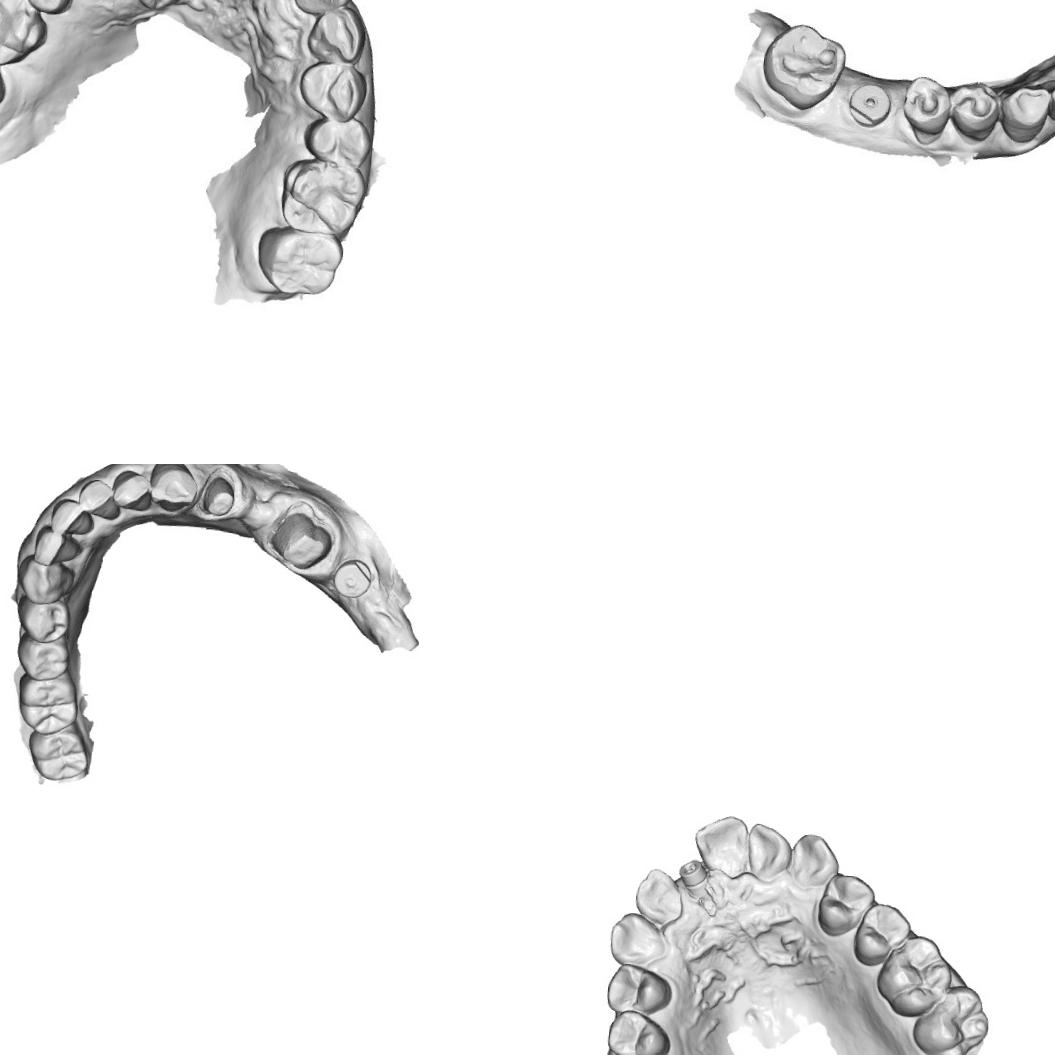canine: (304, 3, 366, 66), (605, 909, 669, 967), (13, 553, 80, 608), (785, 830, 843, 891), (999, 81, 1051, 146), (145, 464, 200, 515)
crown: (266, 506, 336, 574), (197, 472, 238, 519)
implant: (844, 80, 894, 130), (327, 554, 377, 602), (675, 856, 712, 900)
incisor: (690, 812, 752, 880), (631, 866, 686, 927), (744, 820, 794, 883), (28, 523, 84, 570), (74, 472, 124, 522), (44, 495, 96, 540), (109, 467, 155, 514), (297, 0, 354, 13), (1045, 69, 1055, 126)
molar: (758, 17, 849, 113), (275, 153, 371, 239), (872, 930, 954, 1021), (253, 220, 343, 298), (909, 980, 992, 1055), (24, 717, 95, 786), (15, 671, 80, 739), (0, 0, 52, 73)
premolar: (294, 59, 368, 122), (812, 870, 878, 940), (850, 900, 914, 970), (300, 114, 373, 170), (944, 77, 1004, 144), (603, 961, 674, 1017), (896, 71, 950, 137), (604, 1007, 672, 1055), (12, 632, 72, 684), (13, 596, 74, 646), (7, 0, 73, 15)
